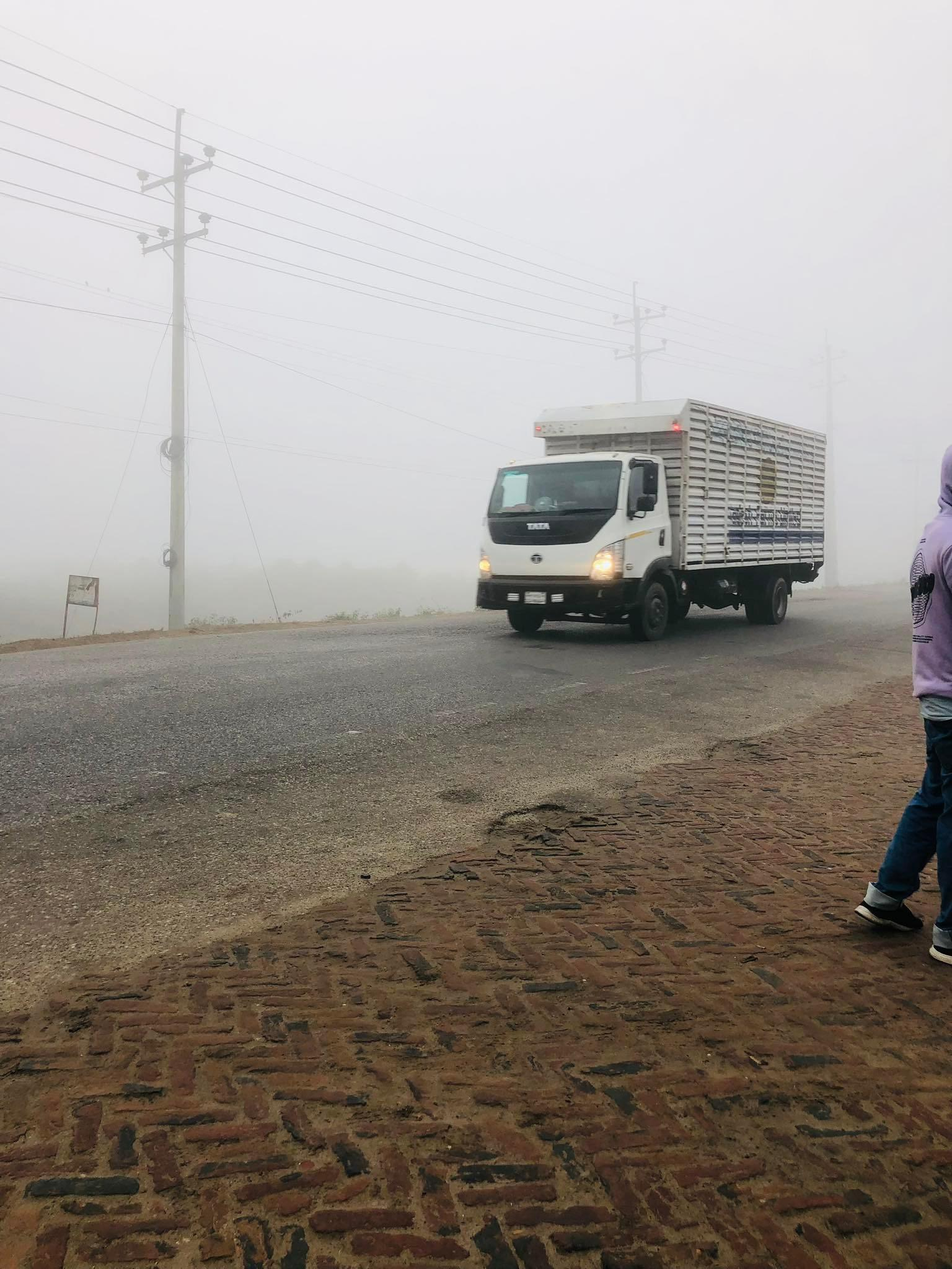Truck: (467, 384, 862, 645)
